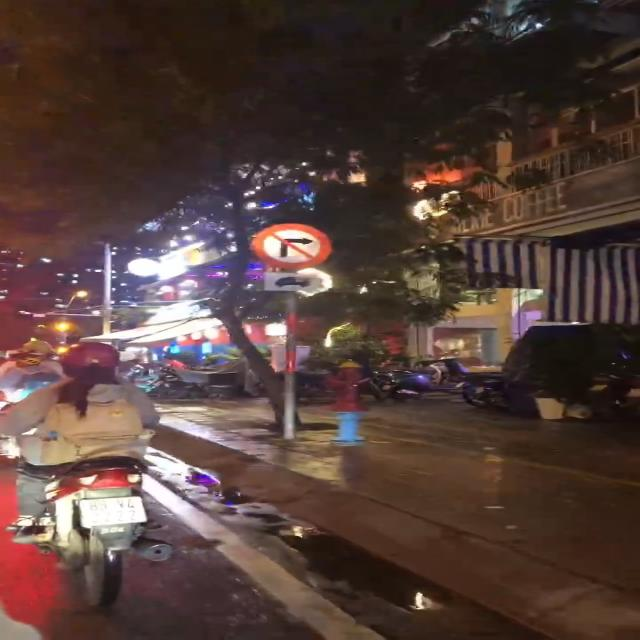Bien bao cam re phai: (240, 220, 338, 270)
